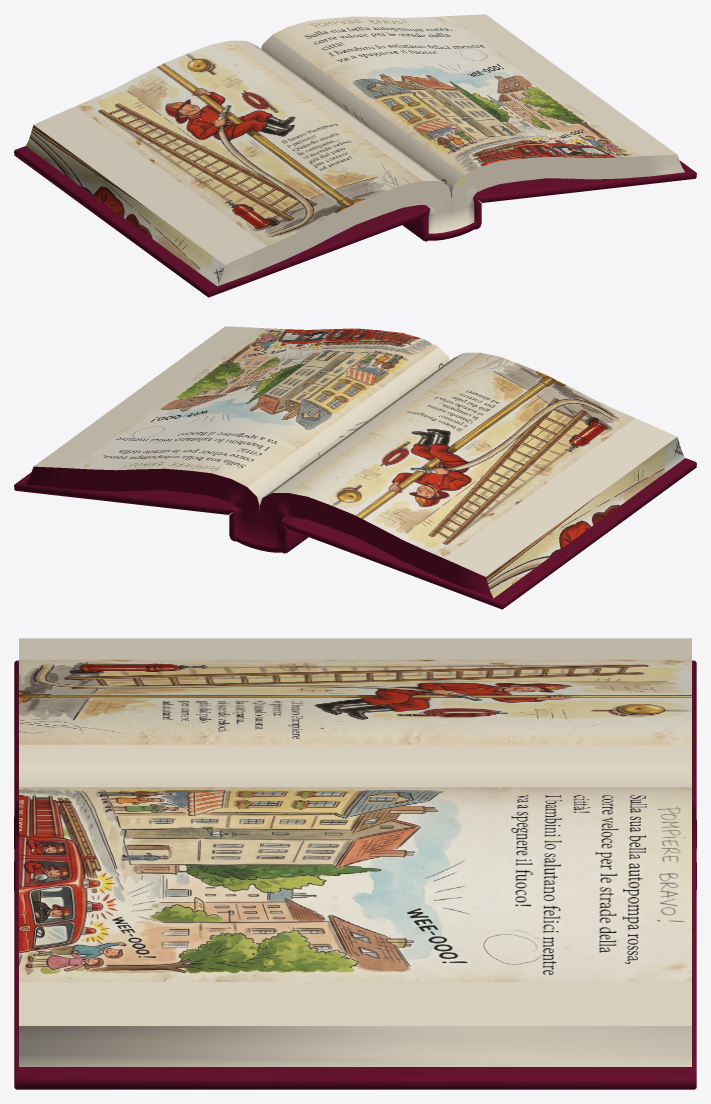
Rendered from libro-past.glb.
The picture shows the model from 3 angles, top to bottom: view 1: azimuth 30°, elevation 25°; view 2: azimuth 150°, elevation 25°; view 3: azimuth 270°, elevation 25°; orthographic projection. The views are drawn at different scales.
Parts seen in each view (by area): view 1: libro-past; view 2: libro-past; view 3: libro-past.
Boxes of the visible parts, x1,y1,x2,y2 form: libro-past: (14,14,696,297); libro-past: (14,326,696,609); libro-past: (14,638,696,1089).
Bounding box in the file's own units: 1.25 × 0.1611 × 0.8617.
Materials: 2 (1 with a texture image).
